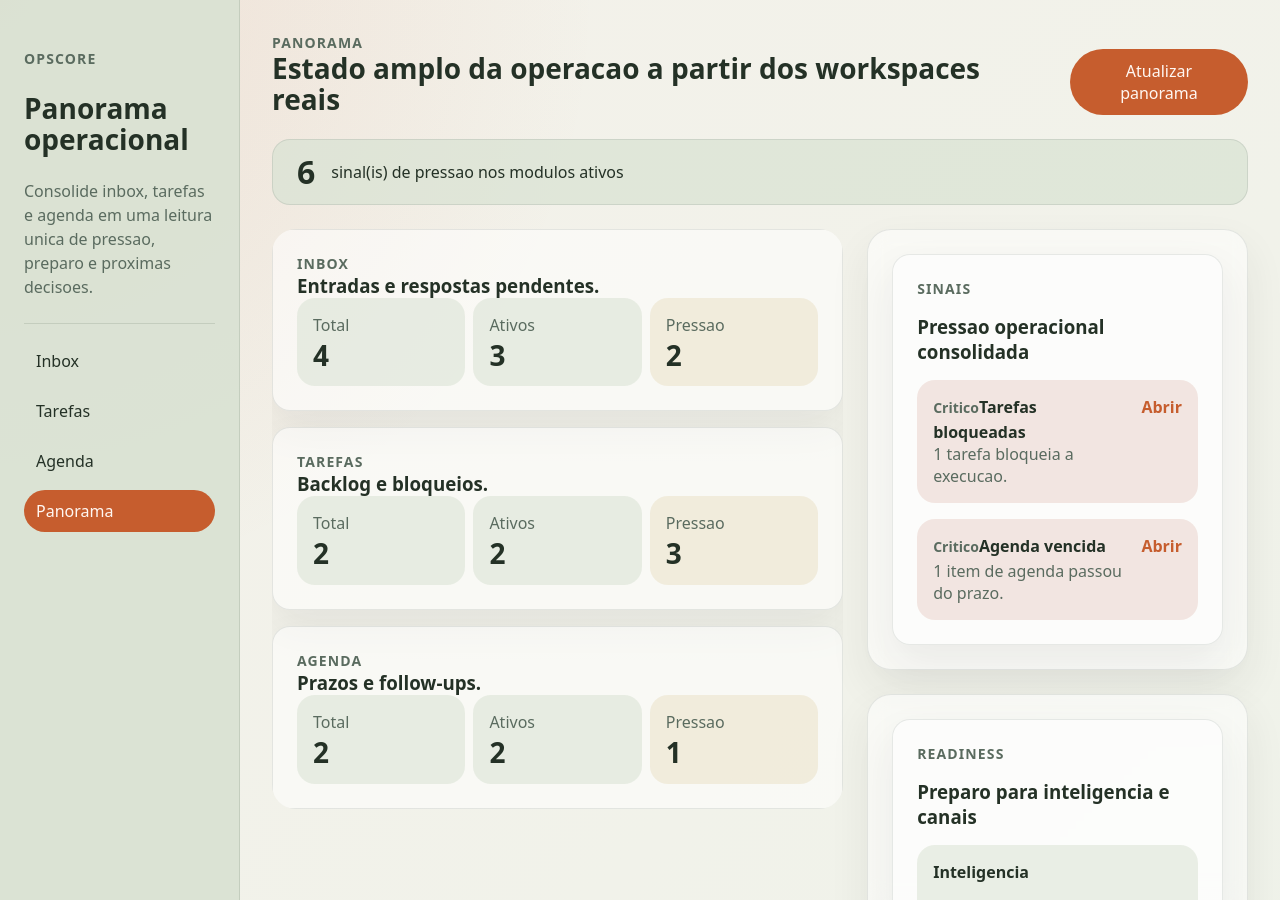
it: panorama workspace shell › refreshes through the panorama API only
The width and height of the screenshot is (1280, 900).
Step 1. Click the button "Atualizar panorama" → [1159, 82], box [1070, 49, 1248, 115]
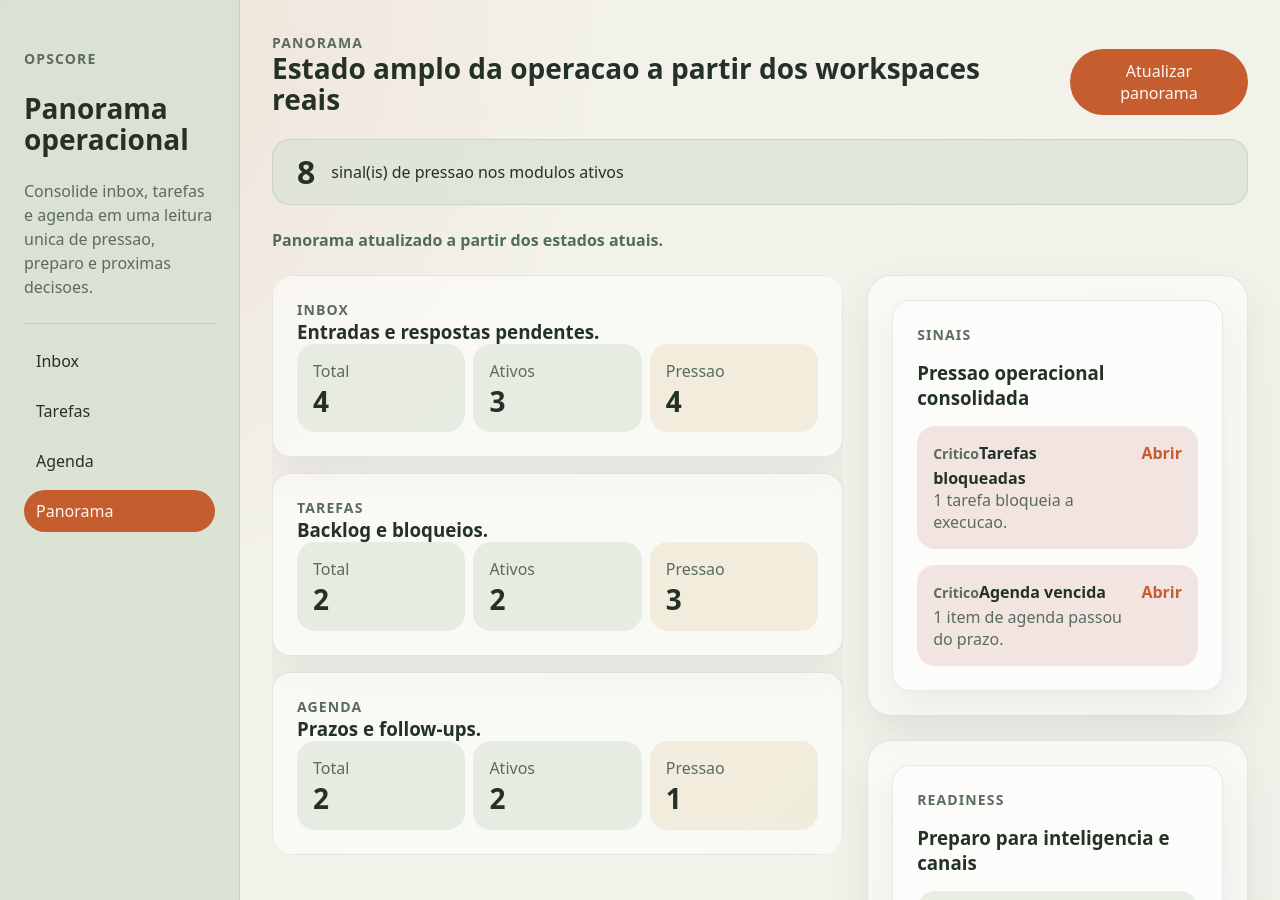
Now the text "Panorama atualizado a partir dos estados atuais." is shown, box [272, 229, 663, 251]
